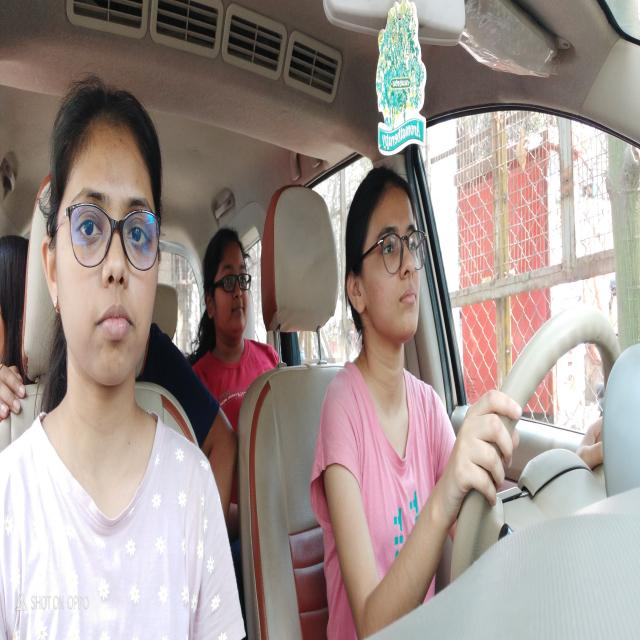person: (42, 78, 164, 389), (347, 167, 434, 348), (200, 218, 258, 348)
